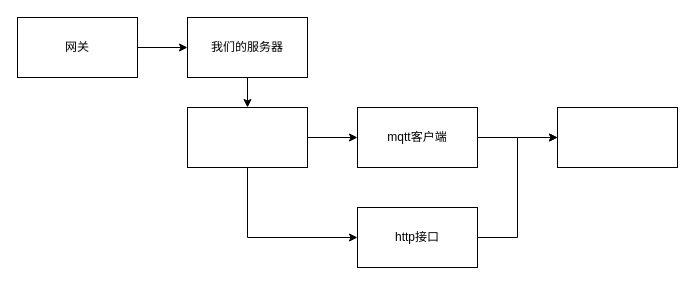
Some shapes in this 695 by 285 pixel diagram are drawn without their labels. The centre of each missing label's shape, as x and y in pixels:
onenet: pixel 617 137
转发服务: pixel 247 137
